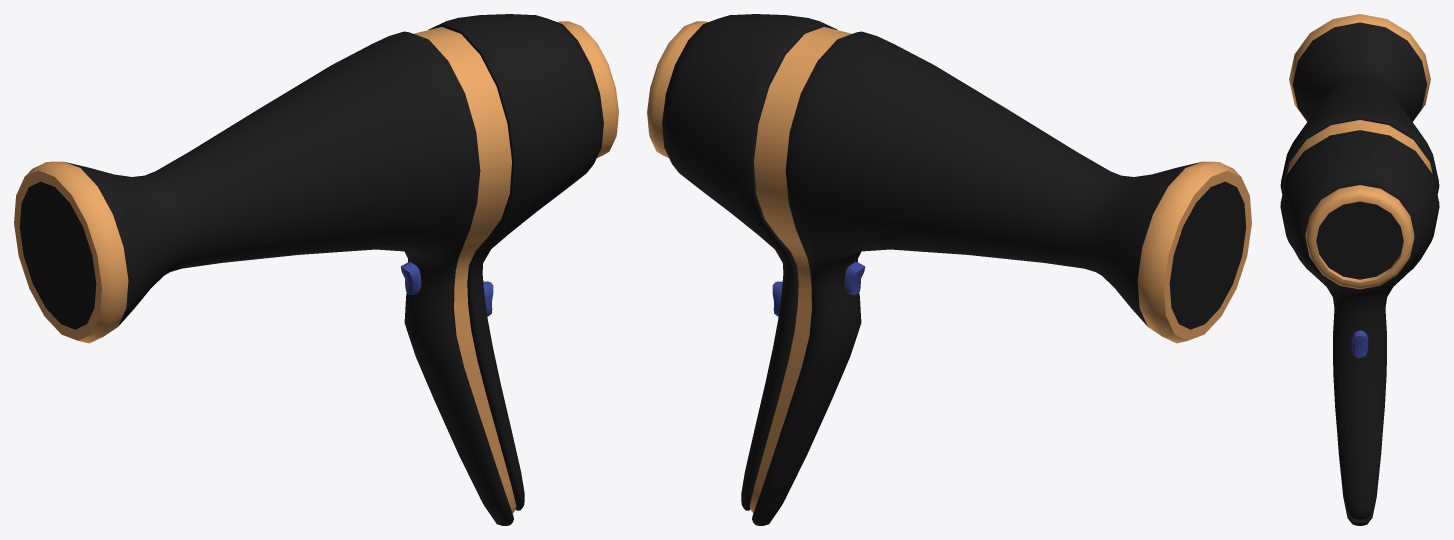
Rendered from hairdryer.fbx.
The picture shows the model from 3 angles, left to right: view 1: azimuth 30°, elevation 25°; view 2: azimuth 150°, elevation 25°; view 3: azimuth 270°, elevation 25°; orthographic projection. The views are drawn at different scales.
Visible parts, largest first — view 1: hairdryer; view 2: hairdryer; view 3: hairdryer.
Part boxes in pixels (bbox=[...]): hairdryer: bbox=[14, 14, 618, 525]; hairdryer: bbox=[647, 14, 1251, 525]; hairdryer: bbox=[1280, 14, 1439, 525].
Size of the model in its own units: 0.2395 by 0.0819 by 0.2172.
